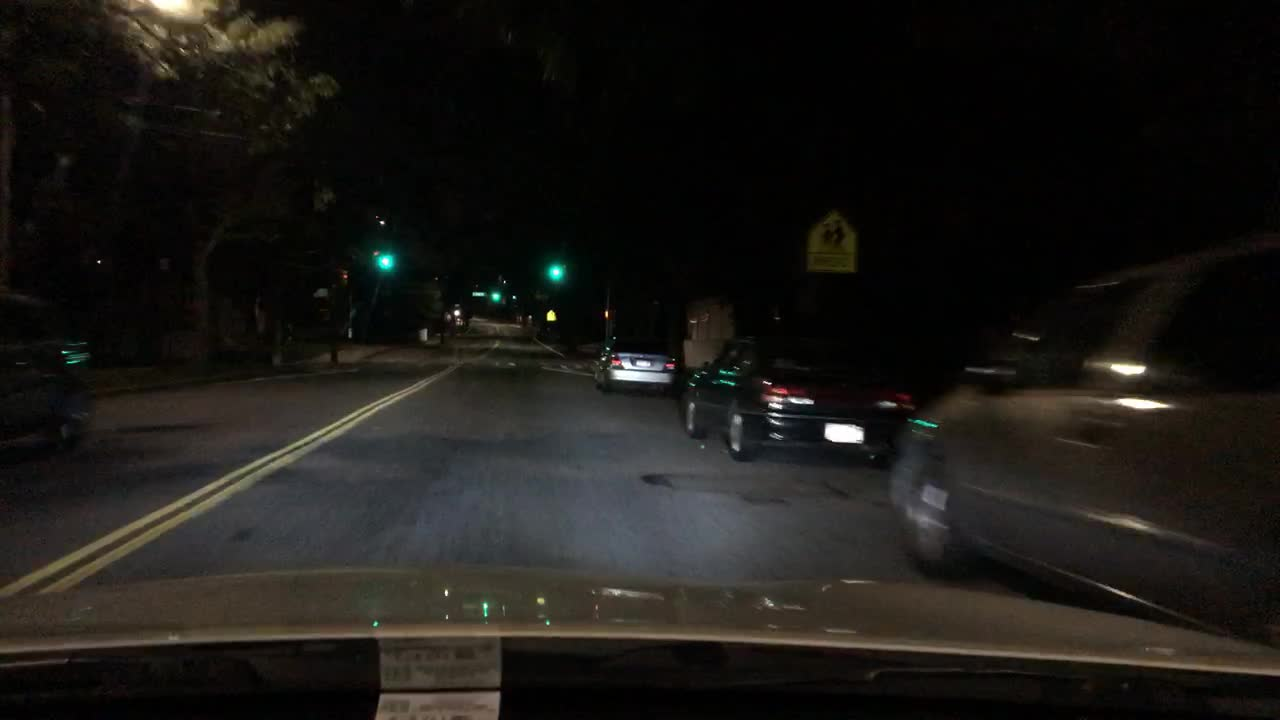car: (882, 222, 1277, 643), (678, 321, 924, 471), (1, 291, 97, 467), (591, 335, 678, 401)
traffic light: (376, 251, 392, 269), (549, 262, 561, 280), (338, 267, 350, 285), (600, 307, 612, 319), (492, 290, 499, 301)
traffic sign: (802, 212, 860, 273), (546, 310, 556, 321), (471, 290, 486, 296)
